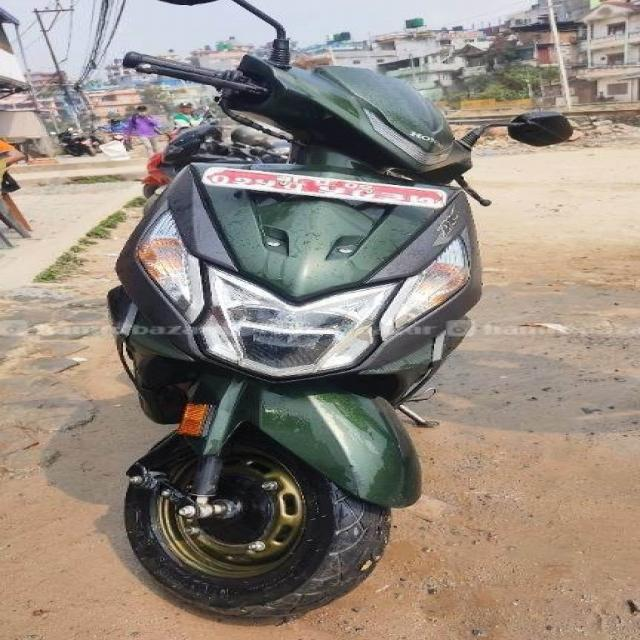License-plate: (205, 165, 444, 220)
